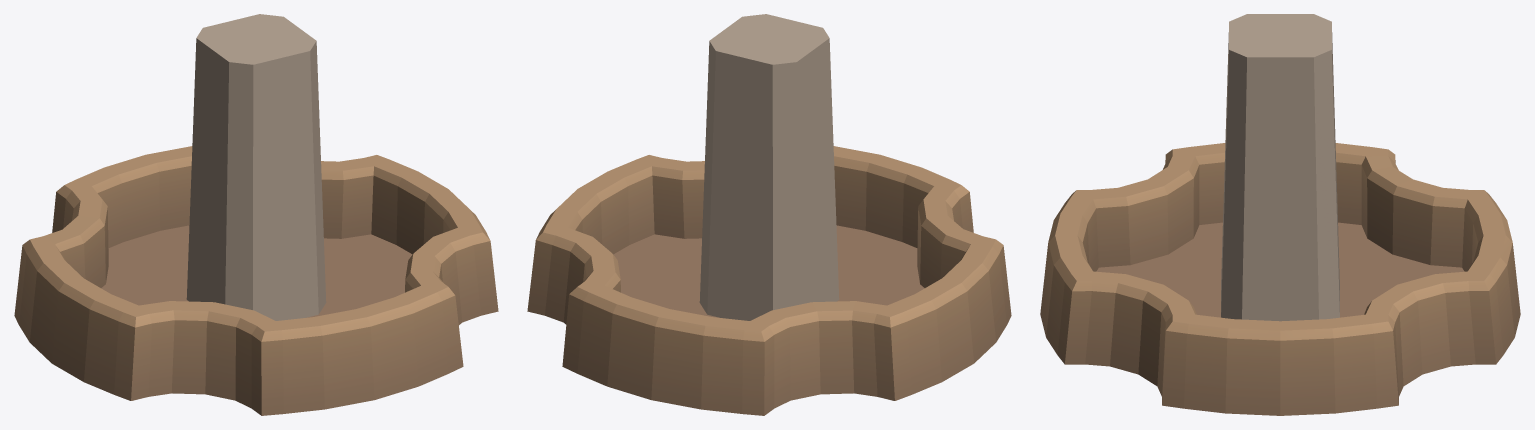
Rendered from LP_Fountain_F_Col.fbx.
3 renders of one model, left to right at view 1: azimuth 30°, elevation 25°; view 2: azimuth 150°, elevation 25°; view 3: azimuth 270°, elevation 25°, orthographic.
Parts seen in each view (by area): view 1: LP_Fountain_F_Col; view 2: LP_Fountain_F_Col; view 3: LP_Fountain_F_Col.
Part boxes in pixels (x1=…): LP_Fountain_F_Col: x1=14, y1=14, x2=498, y2=415; LP_Fountain_F_Col: x1=527, y1=14, x2=1011, y2=415; LP_Fountain_F_Col: x1=1040, y1=14, x2=1520, y2=415.
Bounding box in the file's own units: 507 × 325 × 507.
